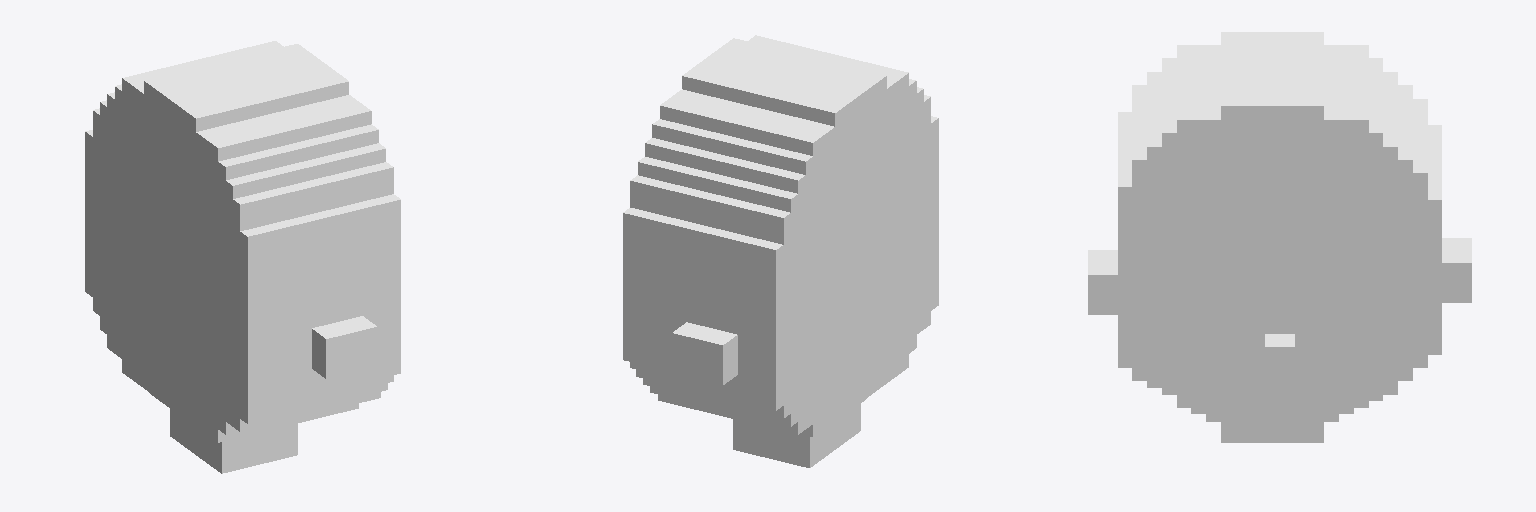
The model's file is Character1_Head.obj.
The picture shows the model from 3 angles: view 1: azimuth 30°, elevation 25°; view 2: azimuth 150°, elevation 25°; view 3: azimuth 270°, elevation 25°; orthographic projection.
Parts seen in each view (by area): view 1: object 1; view 2: object 1; view 3: object 1.
Boxes of the visible parts, box(x1,y1,x2,y2) form: object 1: box(85, 41, 400, 473); object 1: box(623, 35, 938, 467); object 1: box(1088, 32, 1471, 442).
Bounding box in the file's own units: 1.4 × 2.7 × 2.6.